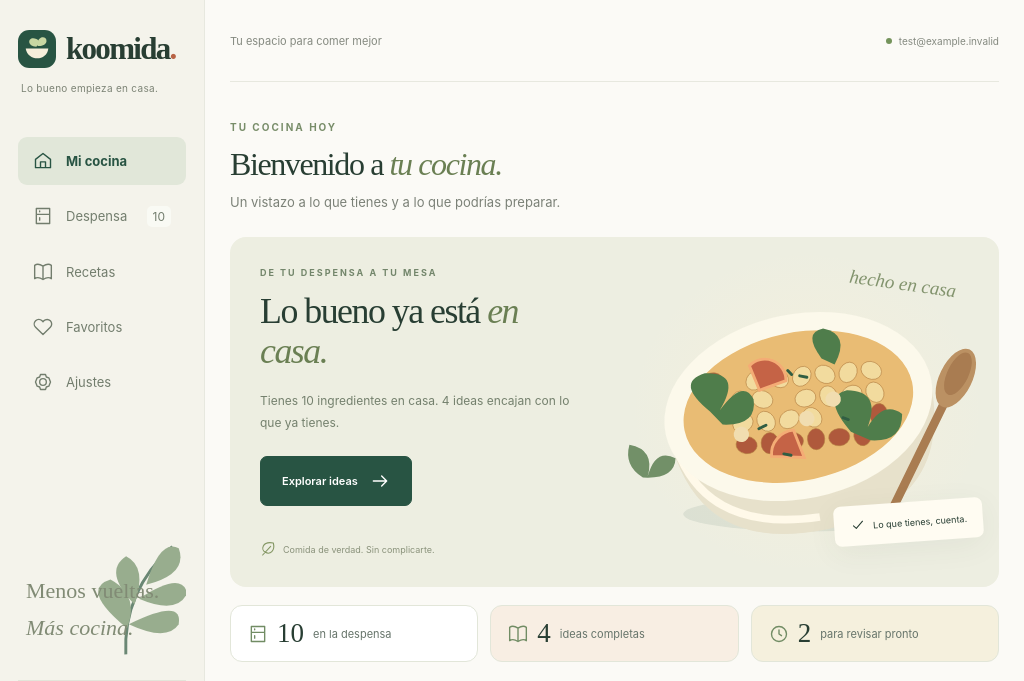
Test: Koomida user flows › removes excluded allergen recipes from browsing and favorites
The image size is (1024, 681).
Expected: the heading "Bienvenido a tu cocina." is shown, [230,146,502,182]
Click the button "Ajustes" at [102, 382], box [18,358,186,406]
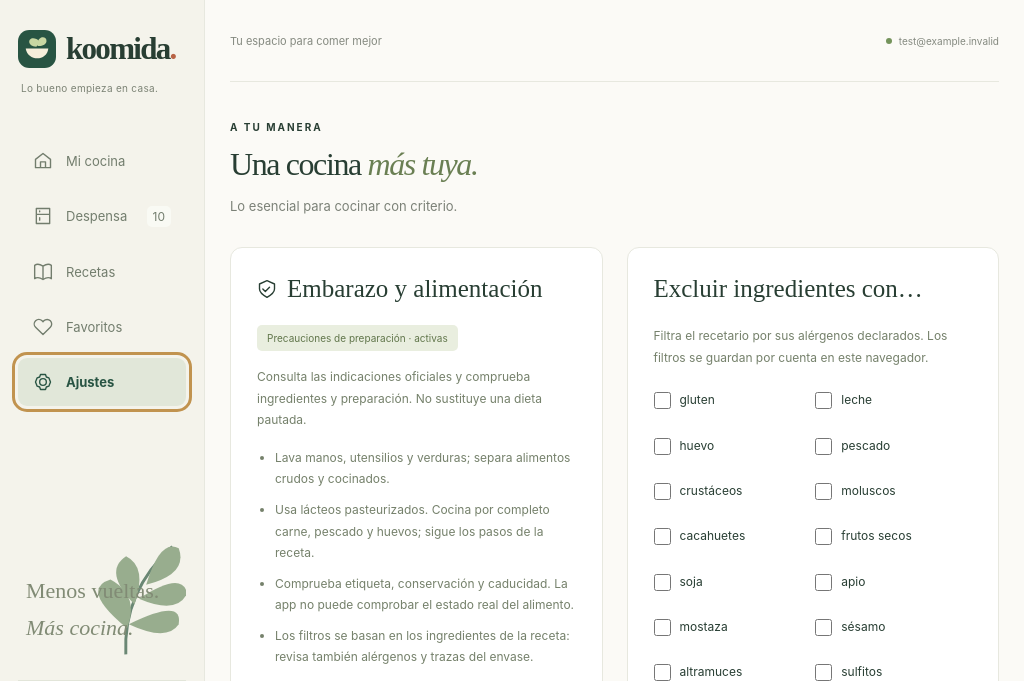
Click the checkbox labelled "gluten" at [662, 401], box [654,392,670,409]
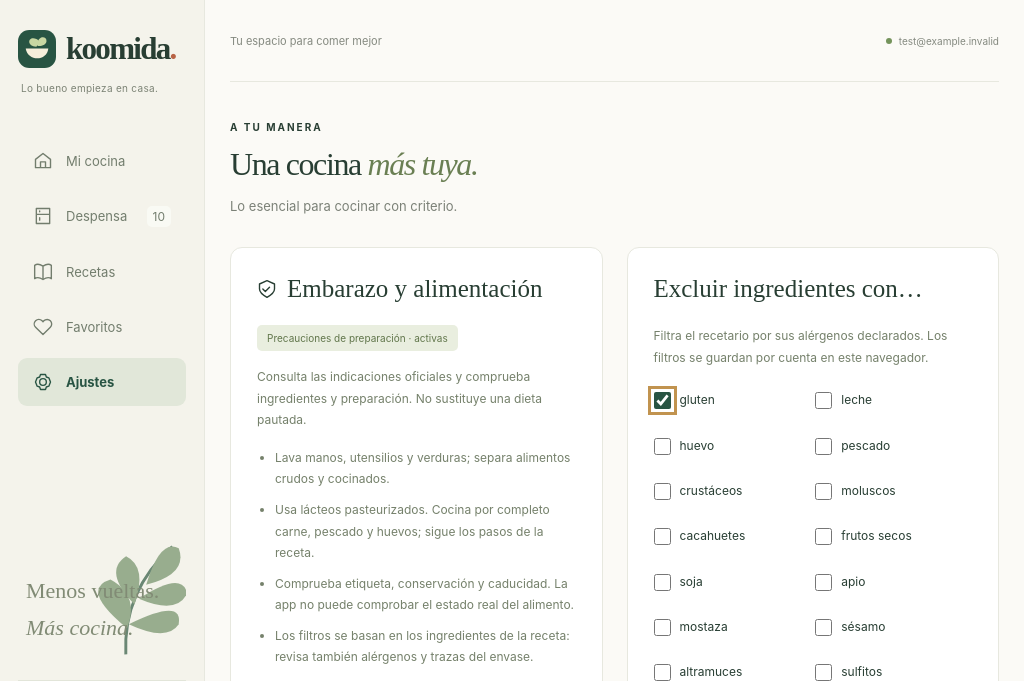
Click the button "Recetas" at [102, 272], box [18,248,186,296]
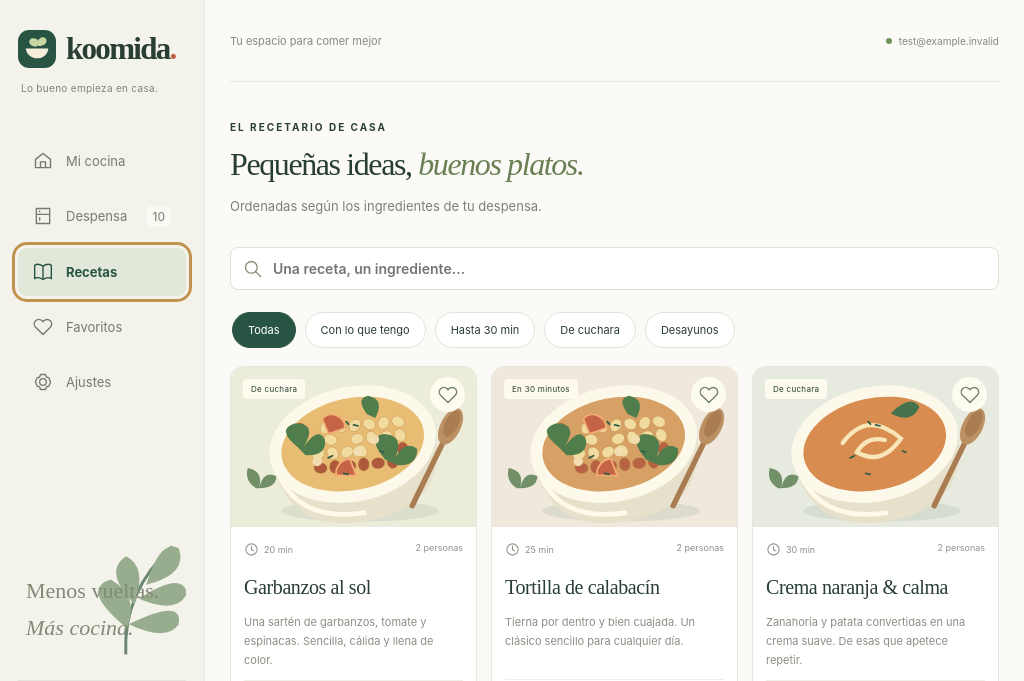
Expected: the button "Garbanzos al sol" is shown, [244,569,371,604]
